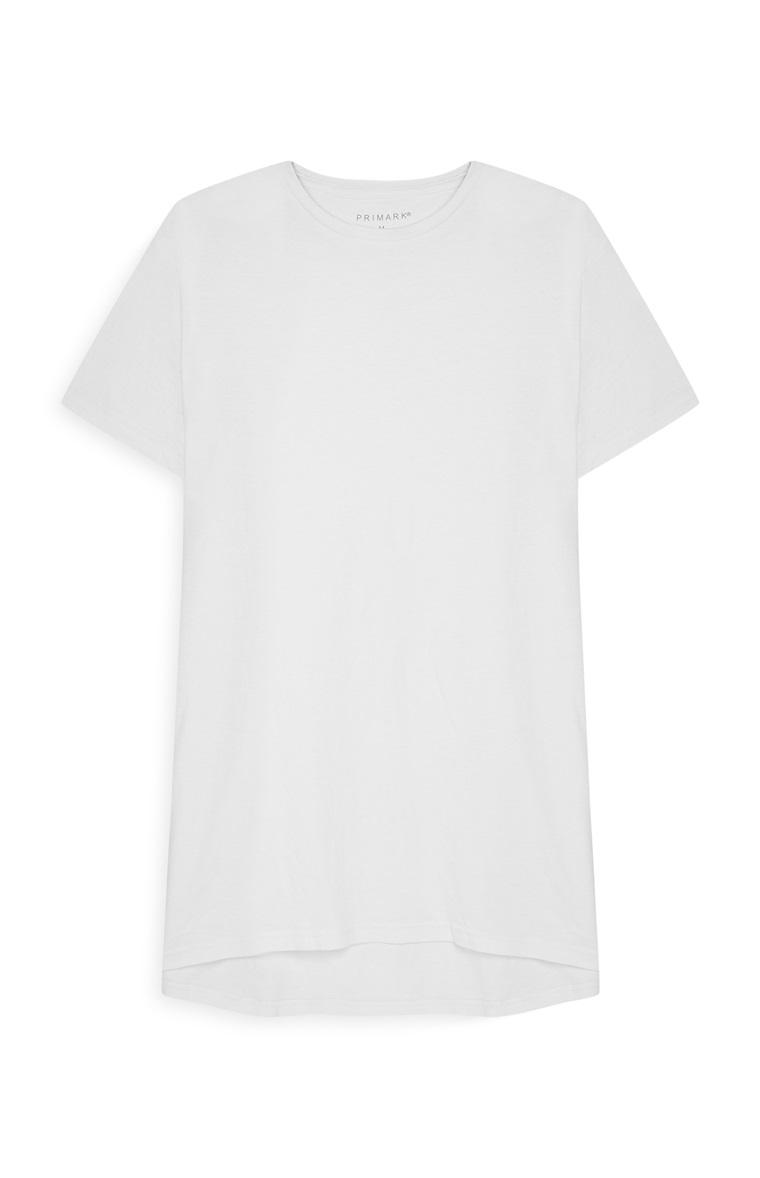teeshirt: (59, 138, 711, 1051)
